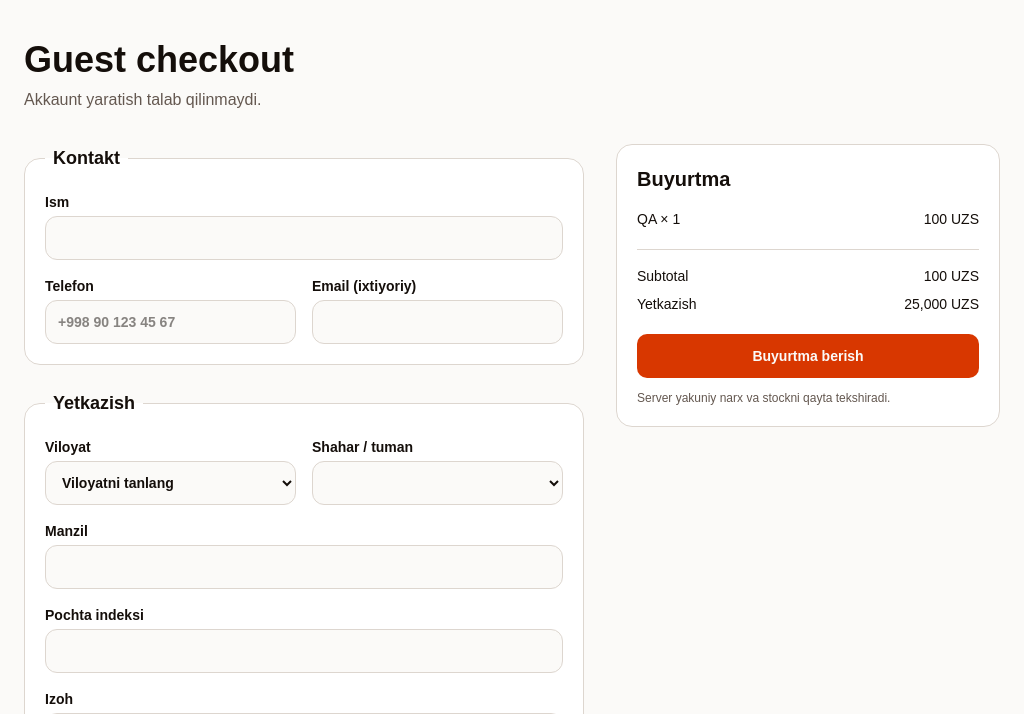
Test: checkout form errors › shows cities for the selected Uzbekistan region
Check: the dropdown labelled "Shahar / tuman" is disabled, box 312,461 -> 563,505
Select "Toshkent shahri" in the dropdown labelled "Viloyat" at (170, 483), box 45,461 -> 296,505
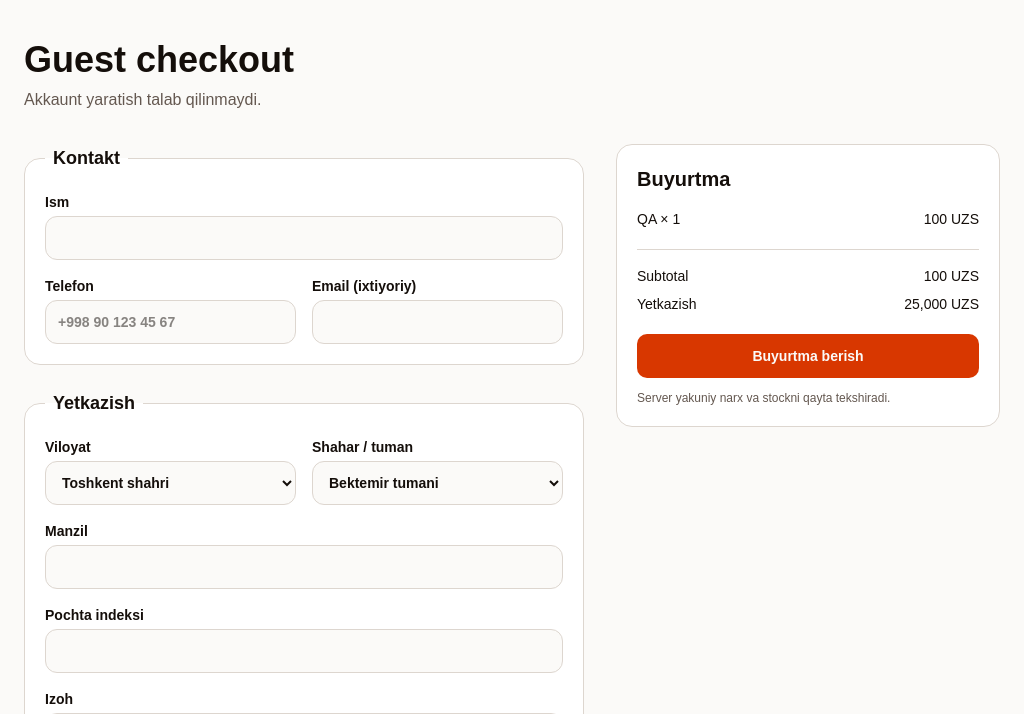
Check: the dropdown labelled "Shahar / tuman" is enabled, box 312,461 -> 563,505
